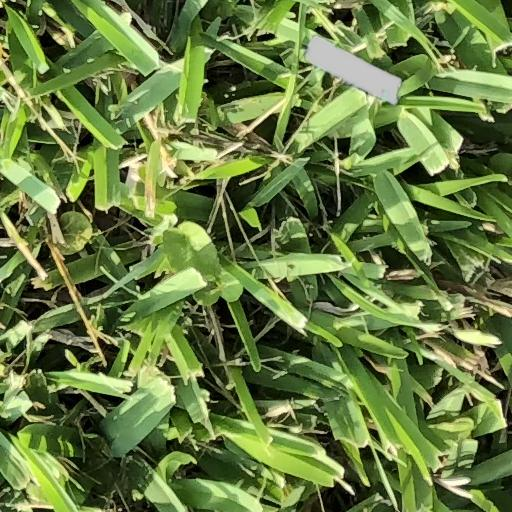smoke: (307, 37, 401, 104)
